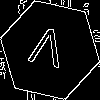V: (25, 25, 67, 78)
